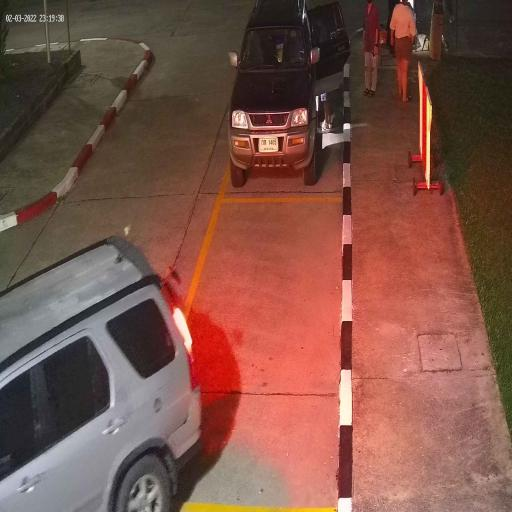car: (0, 229, 204, 512), (227, 0, 323, 191)
